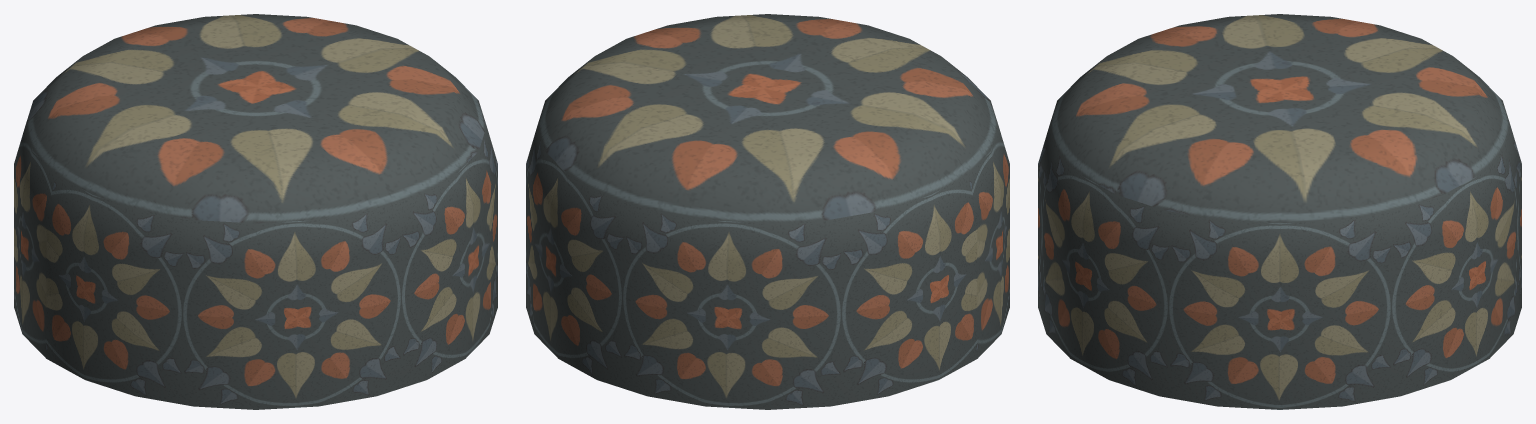
The model's file is DI_023_pouf.glb.
The picture shows the model from 3 angles, left to right: view 1: azimuth 30°, elevation 25°; view 2: azimuth 150°, elevation 25°; view 3: azimuth 270°, elevation 25°; orthographic projection.
Visible parts, largest first — view 1: pouf; view 2: pouf; view 3: pouf.
Part boxes in pixels (<box>): pouf: <box>14,14,497,409</box>; pouf: <box>526,14,1009,409</box>; pouf: <box>1038,14,1521,409</box>.
Bounding box in the file's own units: 0.75 × 0.375 × 0.75.
1 material, 1 textured.
